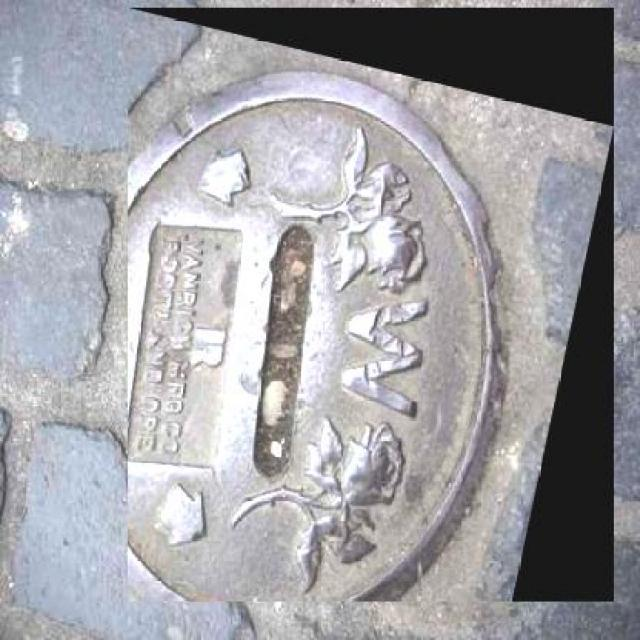Manhole: (128, 9, 614, 602)
